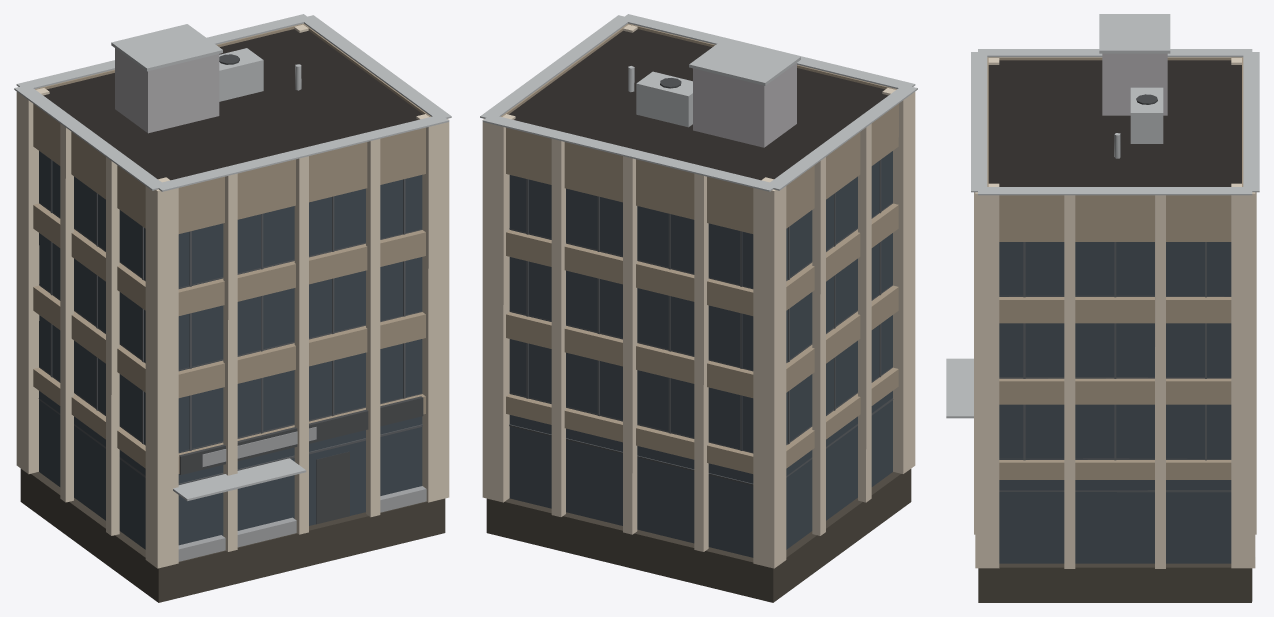
File: shop-office-lod1.glb
3 renders of one model, left to right at view 1: azimuth 30°, elevation 25°; view 2: azimuth 150°, elevation 25°; view 3: azimuth 270°, elevation 25°, orthographic.
Parts seen in each view (by area): view 1: shop-office-plaster0.001; view 2: shop-office-plaster0.001; view 3: shop-office-plaster0.001.
Boxes of the visible parts, bbox=[...] form: shop-office-plaster0.001: bbox=[14, 14, 451, 602]; shop-office-plaster0.001: bbox=[480, 14, 917, 602]; shop-office-plaster0.001: bbox=[946, 14, 1259, 602].
Size of the model in its own units: 12.6 by 19.21 by 11.5.
